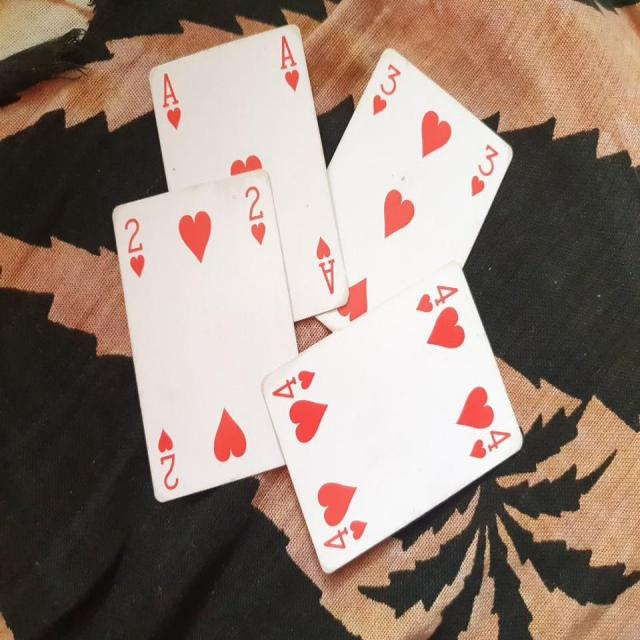2 Hearts: (107, 160, 316, 512)
3 Hearts: (298, 44, 517, 340)
4 Hearts: (259, 259, 526, 574)
A Hearts: (146, 22, 354, 335)
